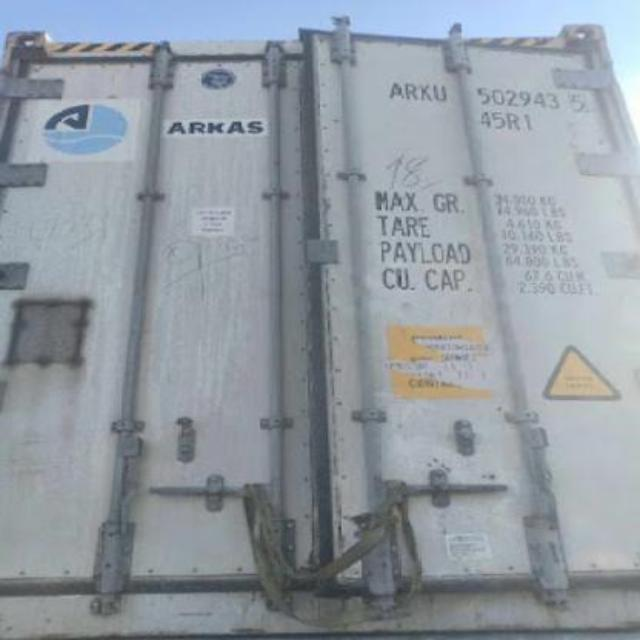0: (490, 88, 506, 106)
2: (504, 88, 520, 108)
3: (548, 91, 560, 112)
4: (532, 90, 546, 110)
5: (570, 94, 588, 112), (476, 86, 492, 106)
9: (520, 89, 532, 107)
A: (391, 83, 404, 101)
K: (419, 81, 433, 102)
R: (406, 80, 418, 100)
U: (432, 84, 448, 102)
